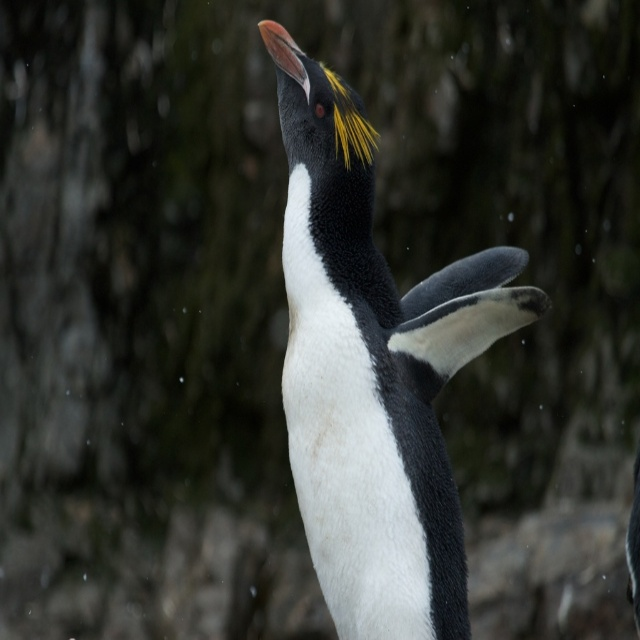Penguin: (254, 15, 555, 639), (625, 451, 640, 639)
